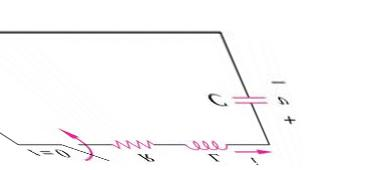inductor: (172, 128, 230, 152)
